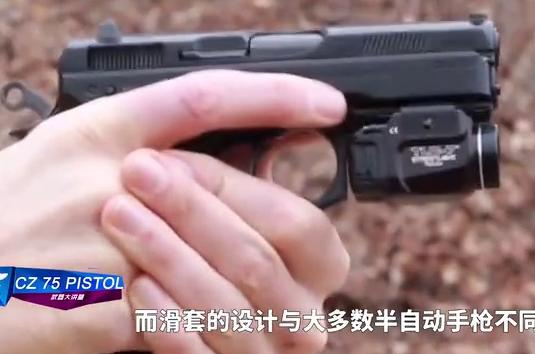gun: (1, 0, 535, 354)
